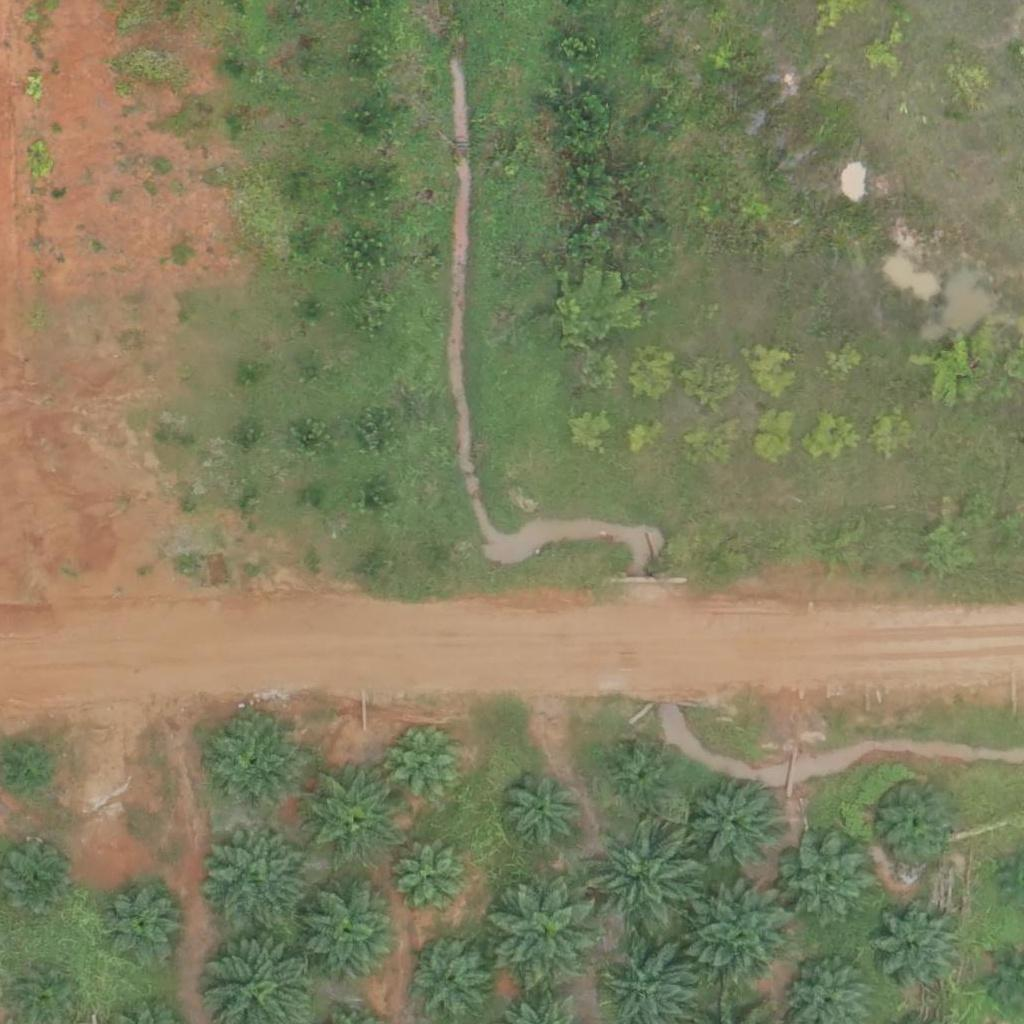Kelapa_Sawit: (589, 809, 714, 934), (204, 826, 317, 940), (491, 873, 604, 986), (205, 713, 305, 814), (303, 764, 403, 865), (692, 885, 792, 986), (303, 884, 403, 984), (693, 783, 781, 871), (500, 769, 587, 858), (388, 722, 475, 810), (784, 837, 871, 925), (874, 904, 961, 992), (879, 783, 954, 859), (104, 887, 179, 963), (418, 946, 493, 1022), (393, 839, 468, 914), (613, 746, 675, 809)
